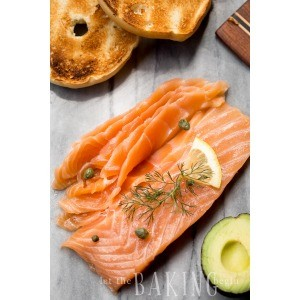salmon_brain food: (66, 77, 230, 294)
